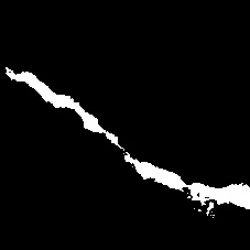crack: (6, 67, 249, 214)
